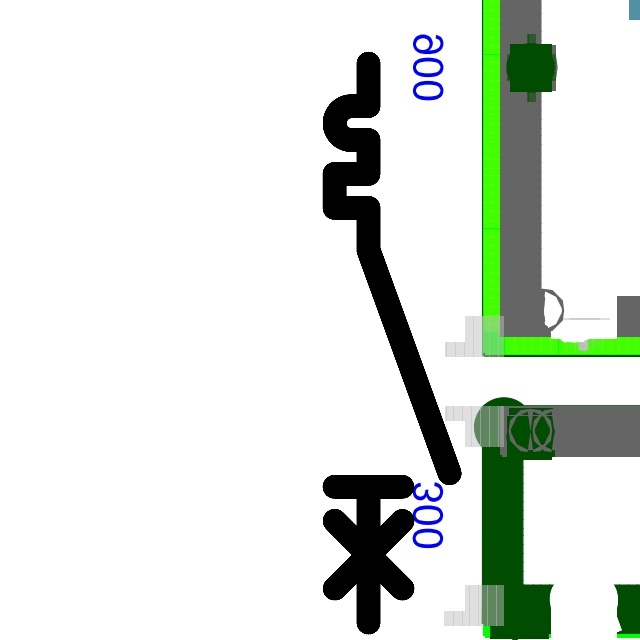interruptor_termomagnetico: (320, 49, 464, 636)
